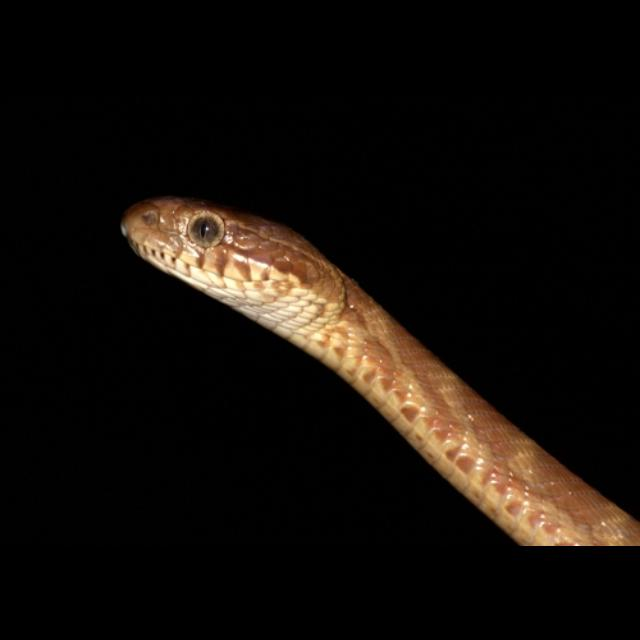snake: (116, 190, 640, 546)
